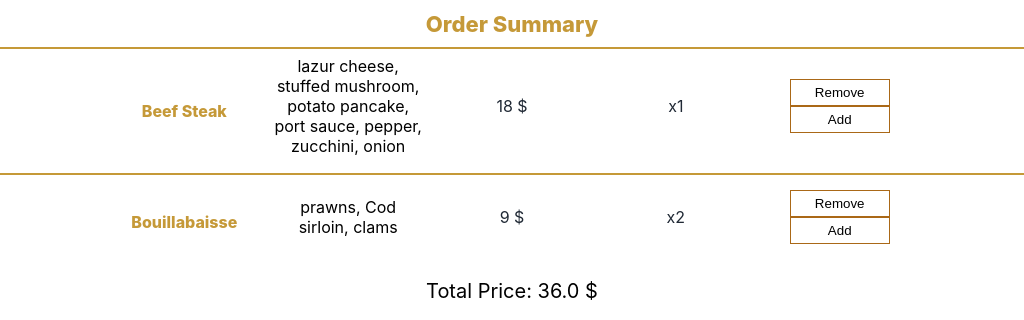
Test case: summary prop equals true › should update price after adding a meal
The image size is (1024, 320).
What coordinates should you click on to do the following:
click the button "Add" in the row of "18"
I would click on:
 (840, 120)
Its box is top-left (790, 106), bottom-right (890, 133).
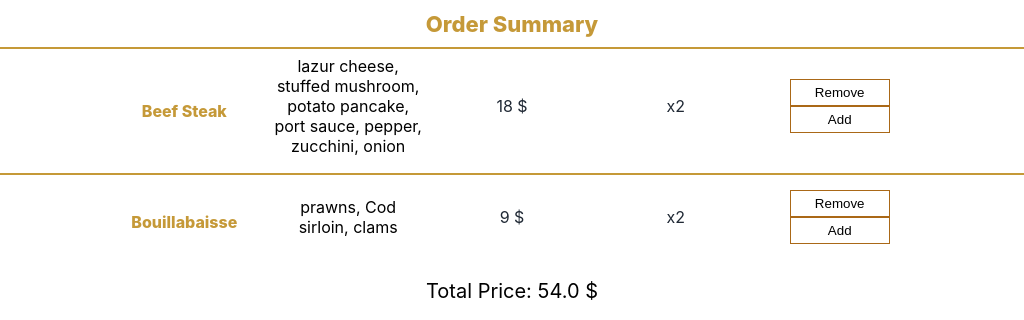
Expected: the text "Total Price: 54.0 $" is shown, top-left (426, 279), bottom-right (598, 303)
